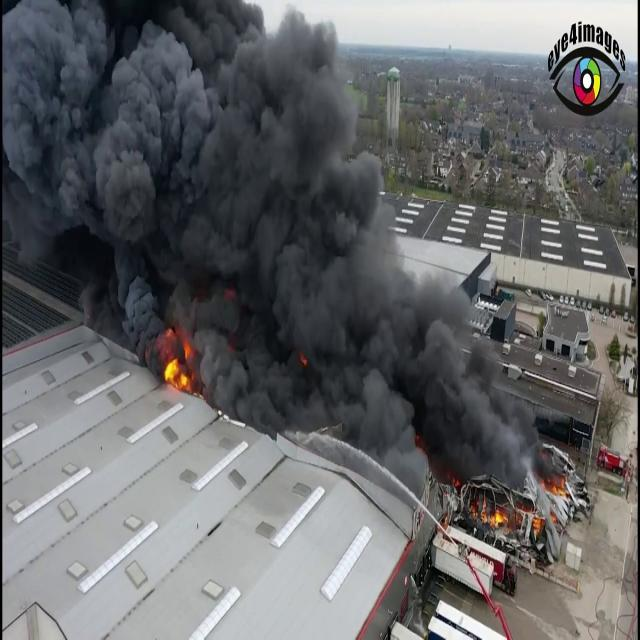Fire: (480, 497, 544, 534), (160, 330, 196, 388), (545, 474, 571, 506)
Smoke: (6, 1, 540, 480)
